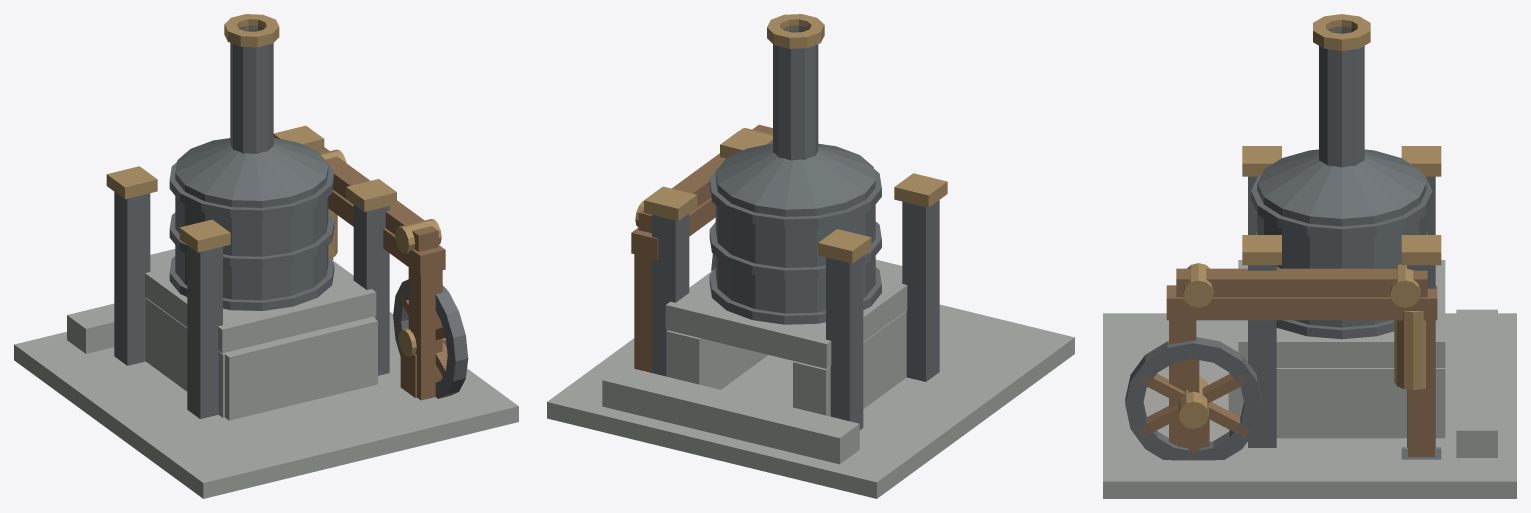
The model's file is vf_reinforced_steam_engine.glb.
3 renders of one model, left to right at view 1: azimuth 30°, elevation 25°; view 2: azimuth 150°, elevation 25°; view 3: azimuth 270°, elevation 25°, orthographic. The views are drawn at different scales.
Visible parts, largest first — view 1: Static_Stone, Static_Iron, Static_Bronze, Static_Oak, Rotor_Iron, Beam_Oak, Beam_Bronze; view 2: Static_Stone, Static_Iron, Static_Bronze, Static_Oak, Beam_Oak; view 3: Static_Stone, Static_Iron, Static_Oak, Static_Bronze, Rotor_Iron, Beam_Oak, Rotor_Oak, Beam_Bronze, Rotor_Bronze.
Boxes of the visible parts, box(x1,y1,x2,y2) form: Static_Stone: box(14, 249, 518, 498); Static_Iron: box(114, 25, 389, 418); Static_Bronze: box(106, 14, 396, 258); Static_Oak: box(328, 189, 445, 400); Rotor_Iron: box(393, 279, 468, 398); Beam_Oak: box(319, 147, 438, 251); Beam_Bronze: box(320, 149, 441, 253); Static_Stone: box(547, 259, 1074, 498); Static_Iron: box(652, 25, 939, 430); Static_Bronze: box(644, 14, 947, 263); Static_Oak: box(631, 197, 715, 372); Beam_Oak: box(638, 124, 772, 233); Static_Stone: box(1103, 260, 1516, 498); Static_Iron: box(1171, 26, 1441, 460); Static_Oak: box(1166, 285, 1437, 456); Static_Bronze: box(1242, 14, 1441, 390); Rotor_Iron: box(1125, 337, 1262, 459); Beam_Oak: box(1176, 268, 1427, 297); Rotor_Oak: box(1137, 349, 1249, 459); Beam_Bronze: box(1183, 263, 1420, 307); Rotor_Bronze: box(1178, 376, 1208, 428).
Bounding box in the file's own units: 2.5 × 2.69 × 2.6.
